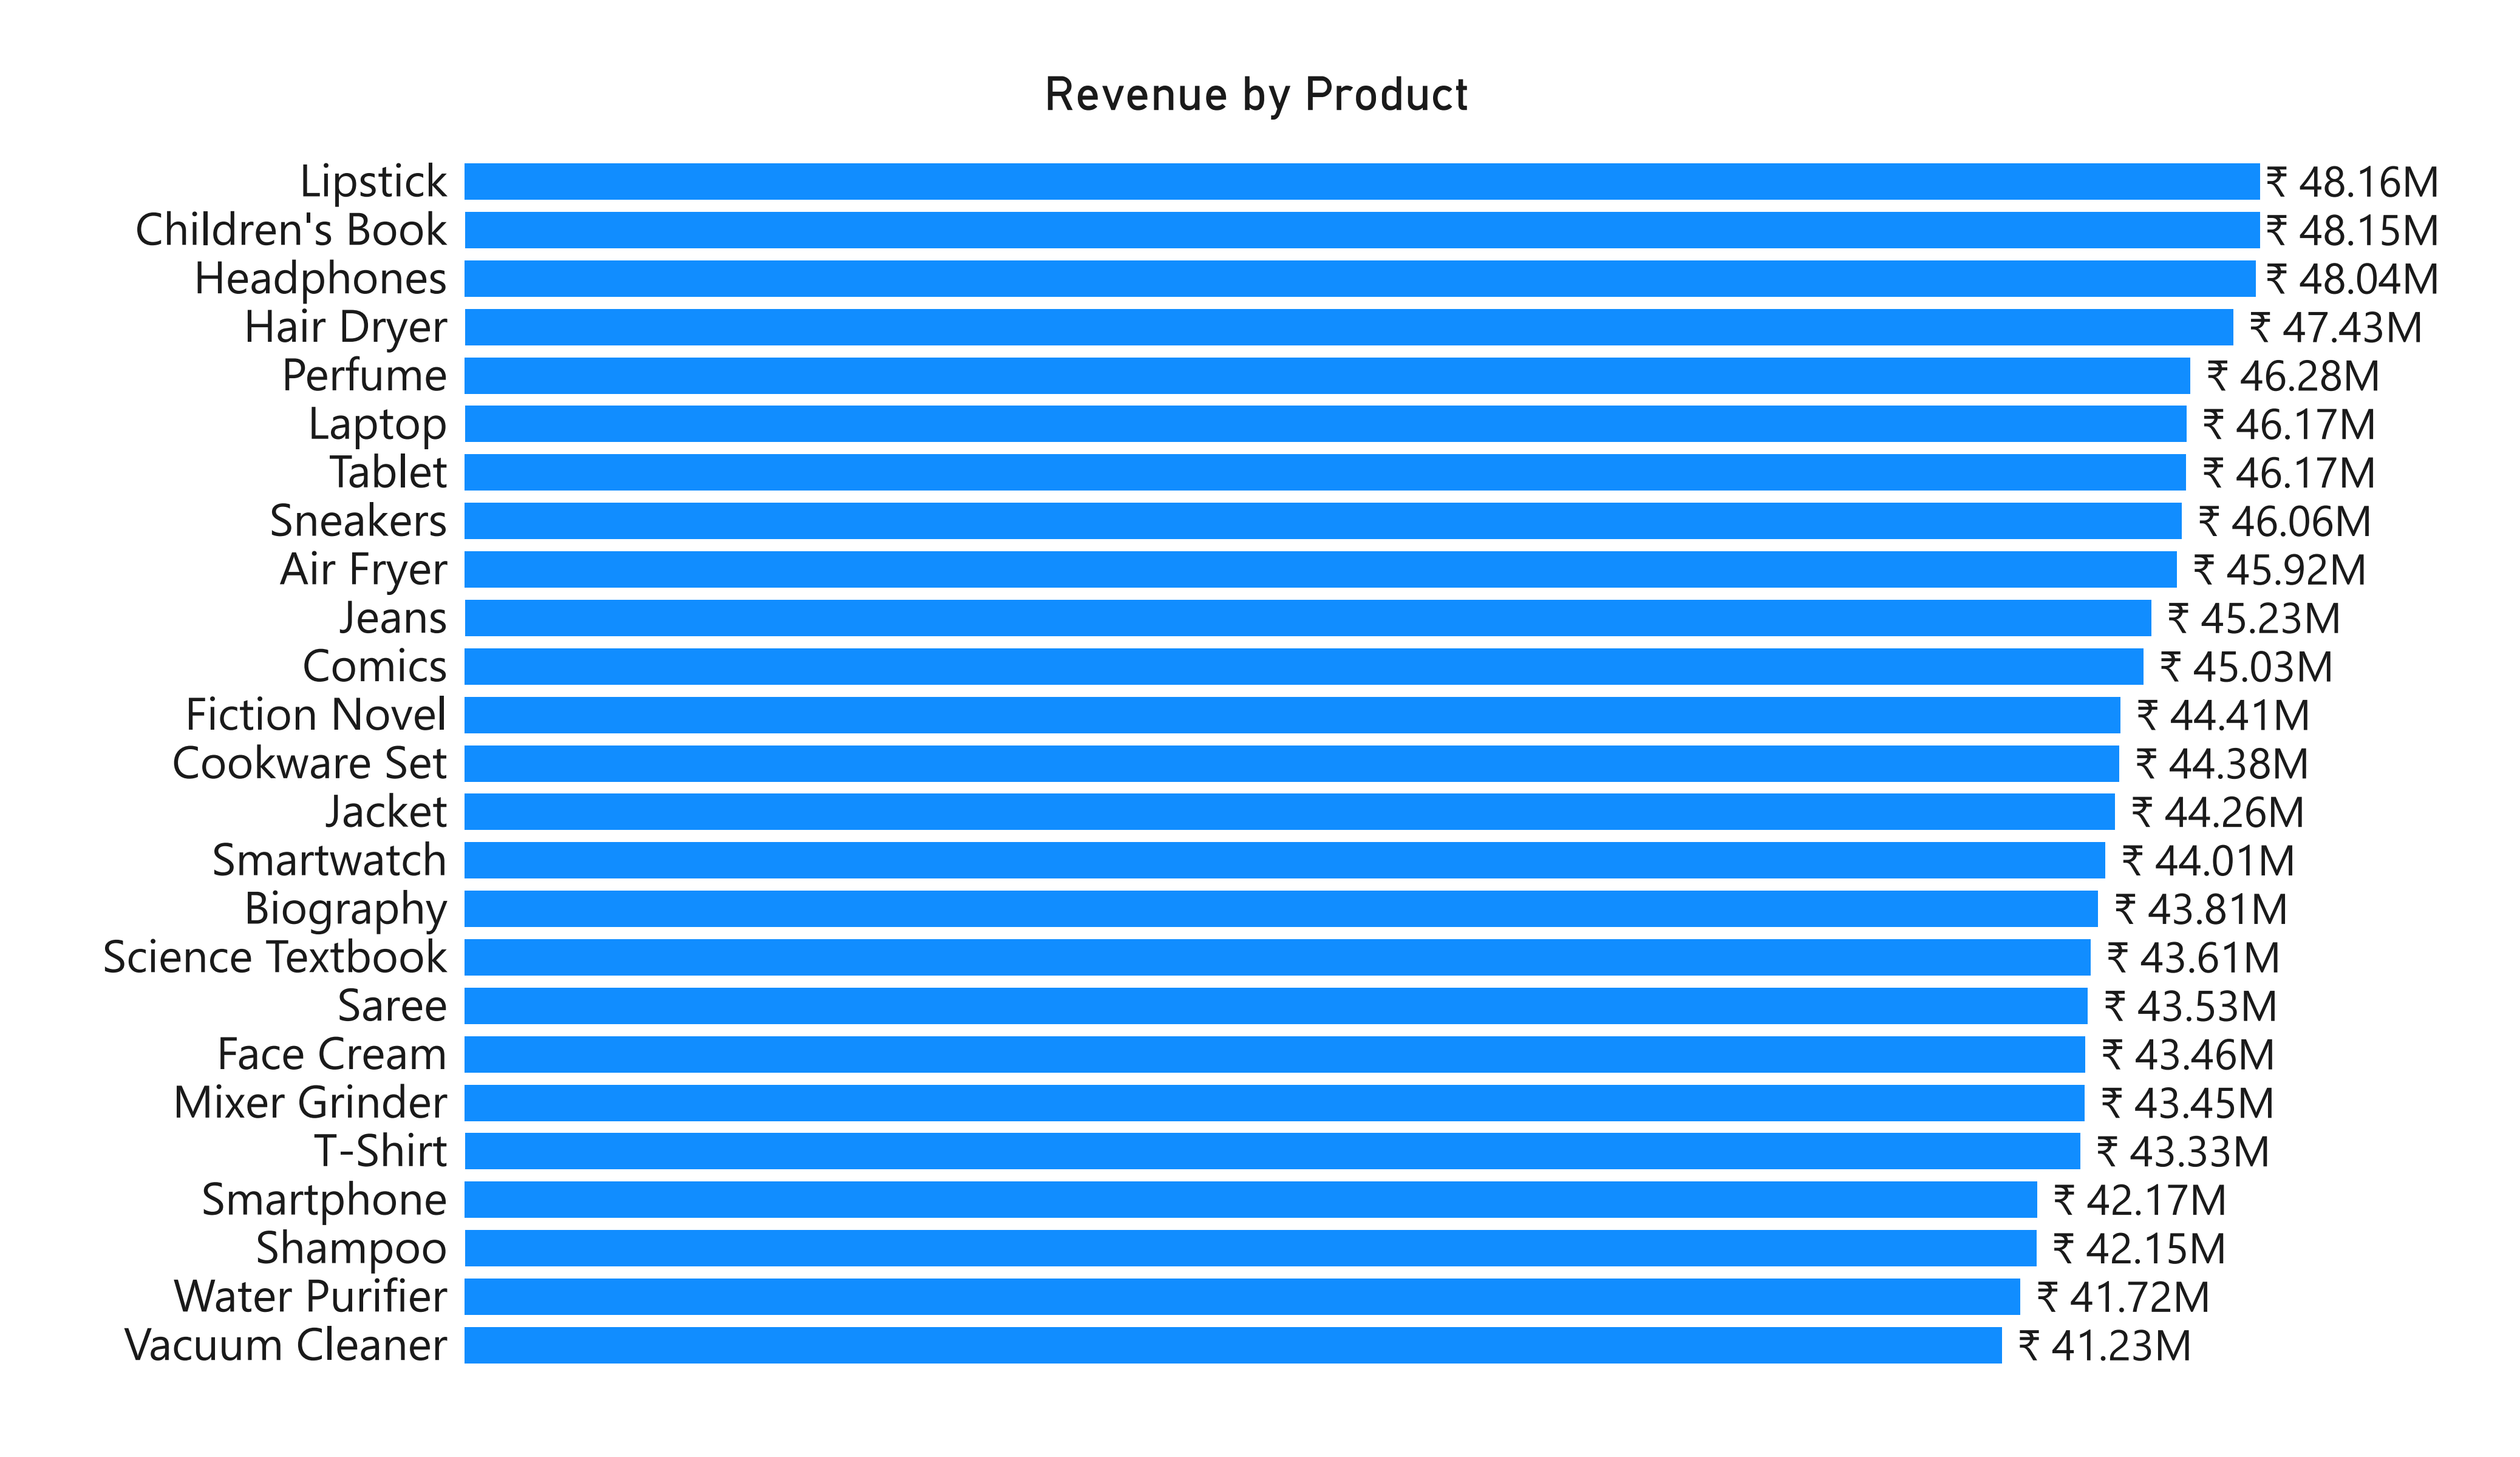

This screenshot's page, from the dashboard's own definition file:
{"tool":"powerbi","page":{"name":"Revenue by Product","canvas":[1280,720],"ordinal":2},"visuals":[{"type":"clusteredBarChart","title":"Revenue by Product","fields":{"Category":["amazon sales 2025.Product_Name"],"Y":["Sum(amazon sales 2025.Total Revenue)"]},"box":[10,0,1270,720],"z":0}]}

Visuals, with their boxes on the page's 1280x720 design canvas (x1, y1, x2, y2). These are canvas units, not pixel positions in the 2520x1457 screenshot, which may show the page scaled, cropped or inside an application window:
"Revenue by Product" clusteredBarChart: (x1=10, y1=0, x2=1280, y2=720)
